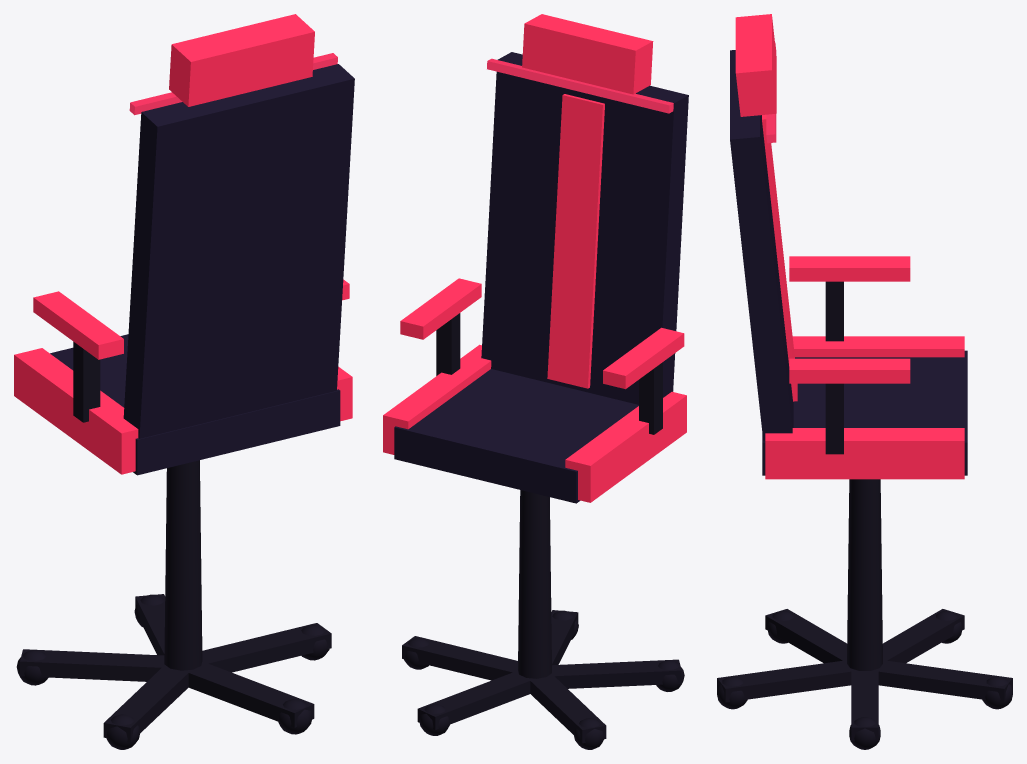
File: chair_gaming.glb
The picture shows the model from 3 angles, left to right: view 1: azimuth 30°, elevation 25°; view 2: azimuth 150°, elevation 25°; view 3: azimuth 270°, elevation 25°; orthographic projection. The views are drawn at different scales.
Visible parts, largest first — view 1: chairG; view 2: chairG; view 3: chairG.
Boxes of the visible parts, x1,y1,x2,y2 form: chairG: (14, 14, 354, 749); chairG: (383, 14, 688, 749); chairG: (717, 14, 1012, 749).
Size of the model in its own units: 0.4266 by 1.05 by 0.4352.
